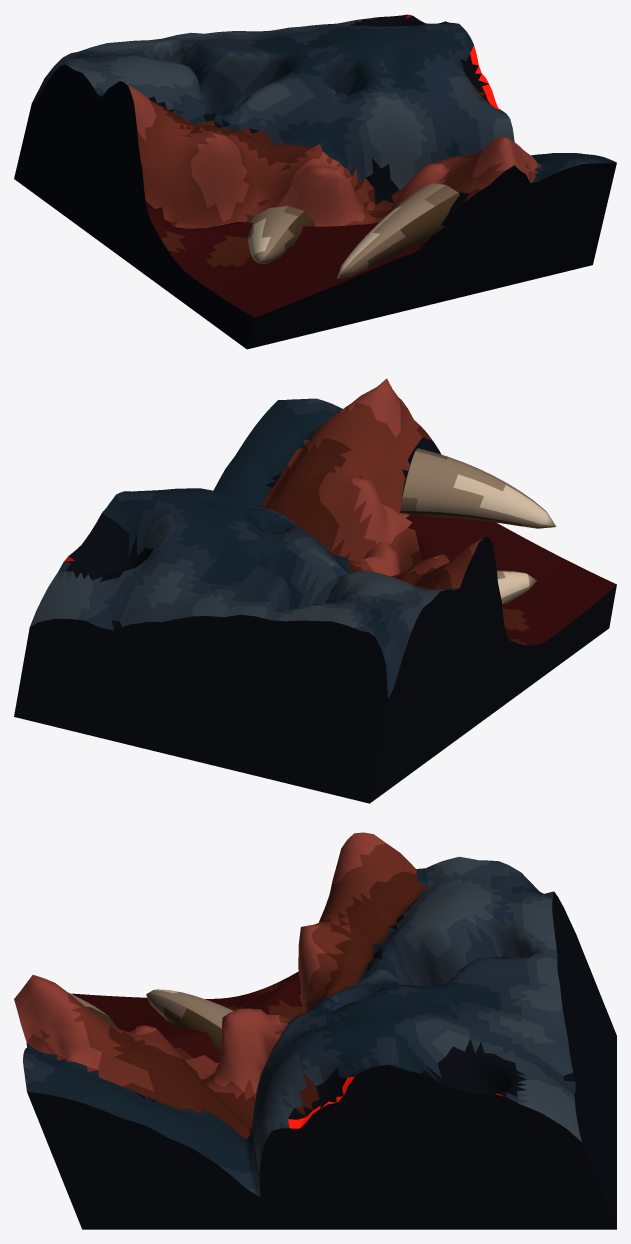
File: gyges_maw_131.glb
3 renders of one model, top to bottom at view 1: azimuth 30°, elevation 25°; view 2: azimuth 150°, elevation 25°; view 3: azimuth 270°, elevation 25°, orthographic. The views are drawn at different scales.
Parts seen in each view (by area): view 1: gyges_maw_131; view 2: gyges_maw_131; view 3: gyges_maw_131.
Boxes of the visible parts, left/top/right/bottom form: gyges_maw_131: left=14, top=14, right=616, bottom=349; gyges_maw_131: left=14, top=378, right=616, bottom=803; gyges_maw_131: left=14, top=832, right=616, bottom=1229.
Bounding box in the file's own units: 24 × 11.75 × 31.57.
